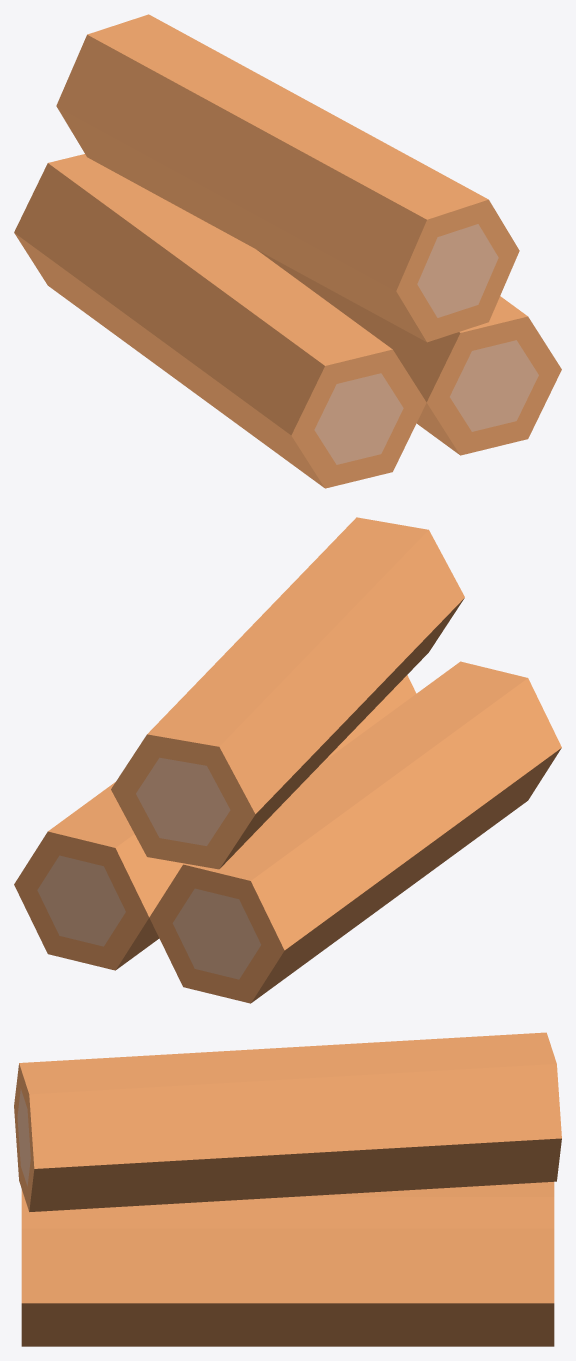
File: logs_stack.fbx
3 views of the same model, one above another, from view 1: azimuth 30°, elevation 25°; view 2: azimuth 150°, elevation 25°; view 3: azimuth 270°, elevation 25° (orthographic). The views are drawn at different scales.
Visible parts, largest first — view 1: logs_stack; view 2: logs_stack; view 3: logs_stack.
Boxes of the visible parts, x1,y1,x2,y2 form: logs_stack: (14,14,561,488); logs_stack: (14,517,561,1003); logs_stack: (14,1032,561,1346).
Size of the model in its own units: 4 by 3.46 by 7.31.
